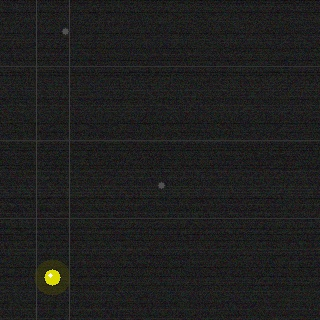yellow_warning: (42, 267, 62, 287)
